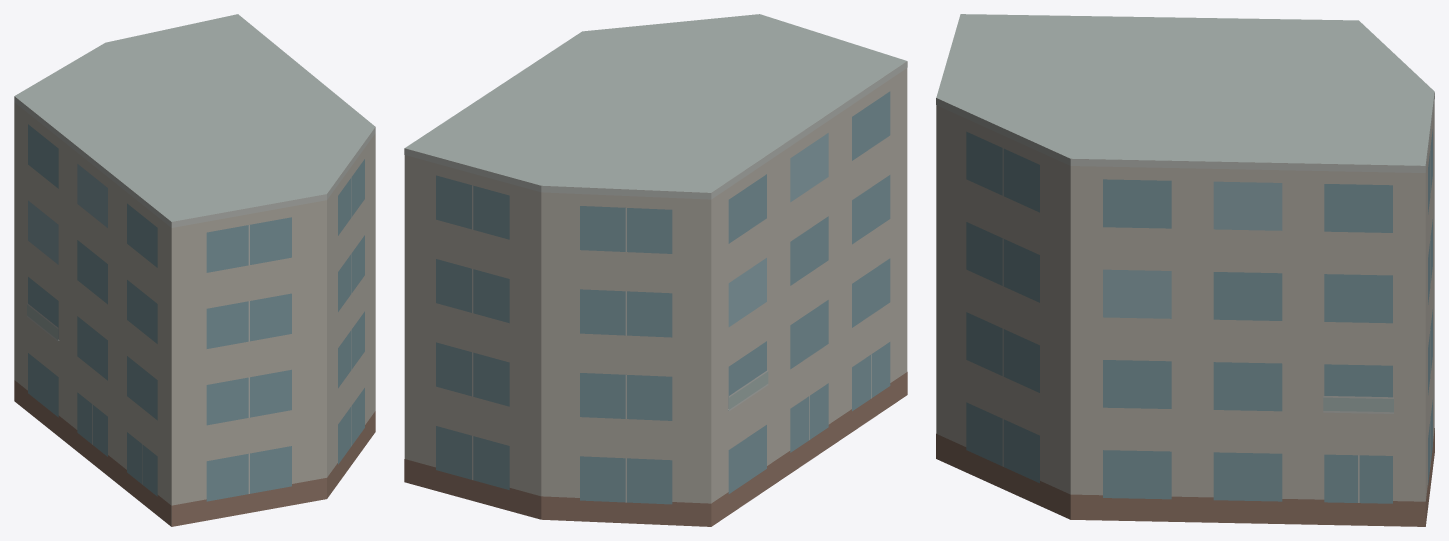
Rendered from survey-upis-32890665.glb.
3 renders of one model, left to right at view 1: azimuth 30°, elevation 25°; view 2: azimuth 150°, elevation 25°; view 3: azimuth 270°, elevation 25°, orthographic. The views are drawn at different scales.
Parts seen in each view (by area): view 1: survey-upis-32890665.tmp; view 2: survey-upis-32890665.tmp; view 3: survey-upis-32890665.tmp.
Part boxes in pixels (x1,y1,x2,y2): survey-upis-32890665.tmp: [14, 14, 375, 526]; survey-upis-32890665.tmp: [404, 14, 907, 526]; survey-upis-32890665.tmp: [936, 14, 1434, 526].
Size of the model in its own units: 11.02 by 12.2 by 15.28.
